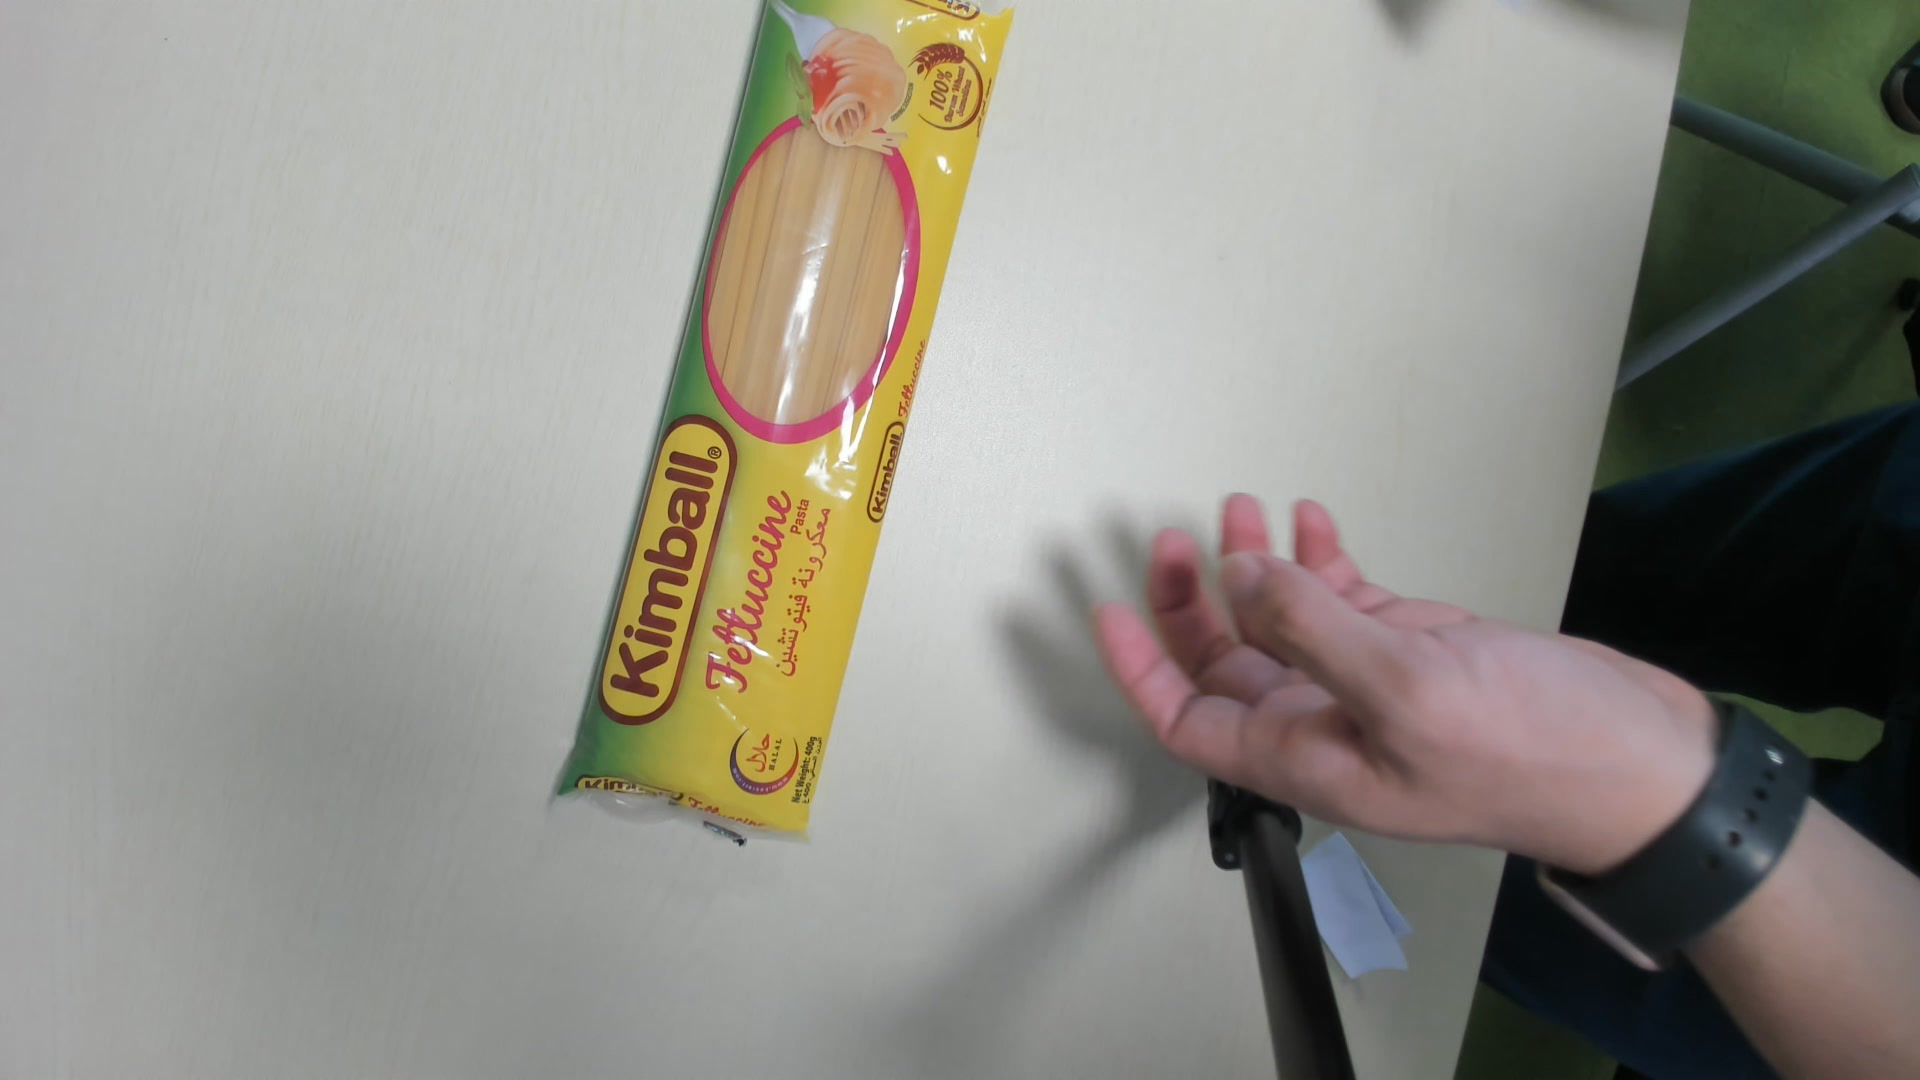Pasta_400-499g_Halal_NonHealthy: (554, 1, 1015, 841)
